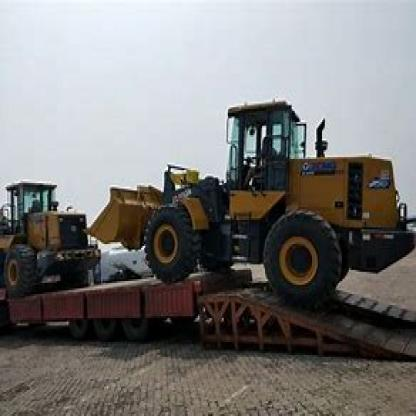bull_dozer/loader/grader: (80, 83, 413, 311)
